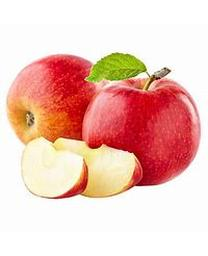apple: (82, 78, 202, 186), (5, 54, 111, 147), (54, 136, 142, 199), (20, 138, 89, 199)
